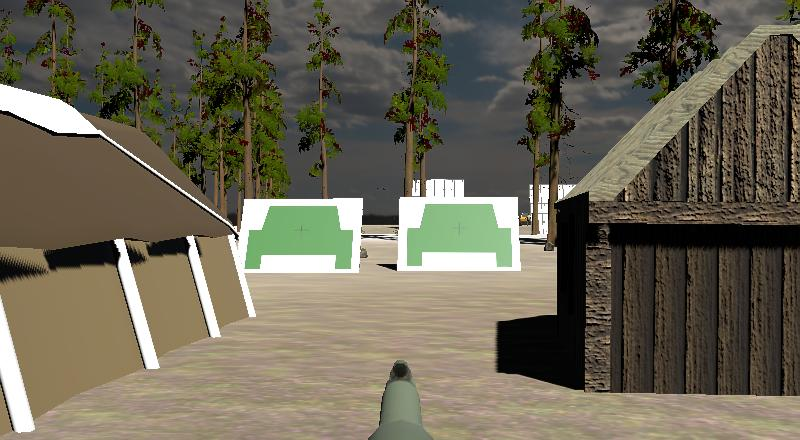House: (552, 24, 800, 407)
car: (519, 213, 535, 226)
